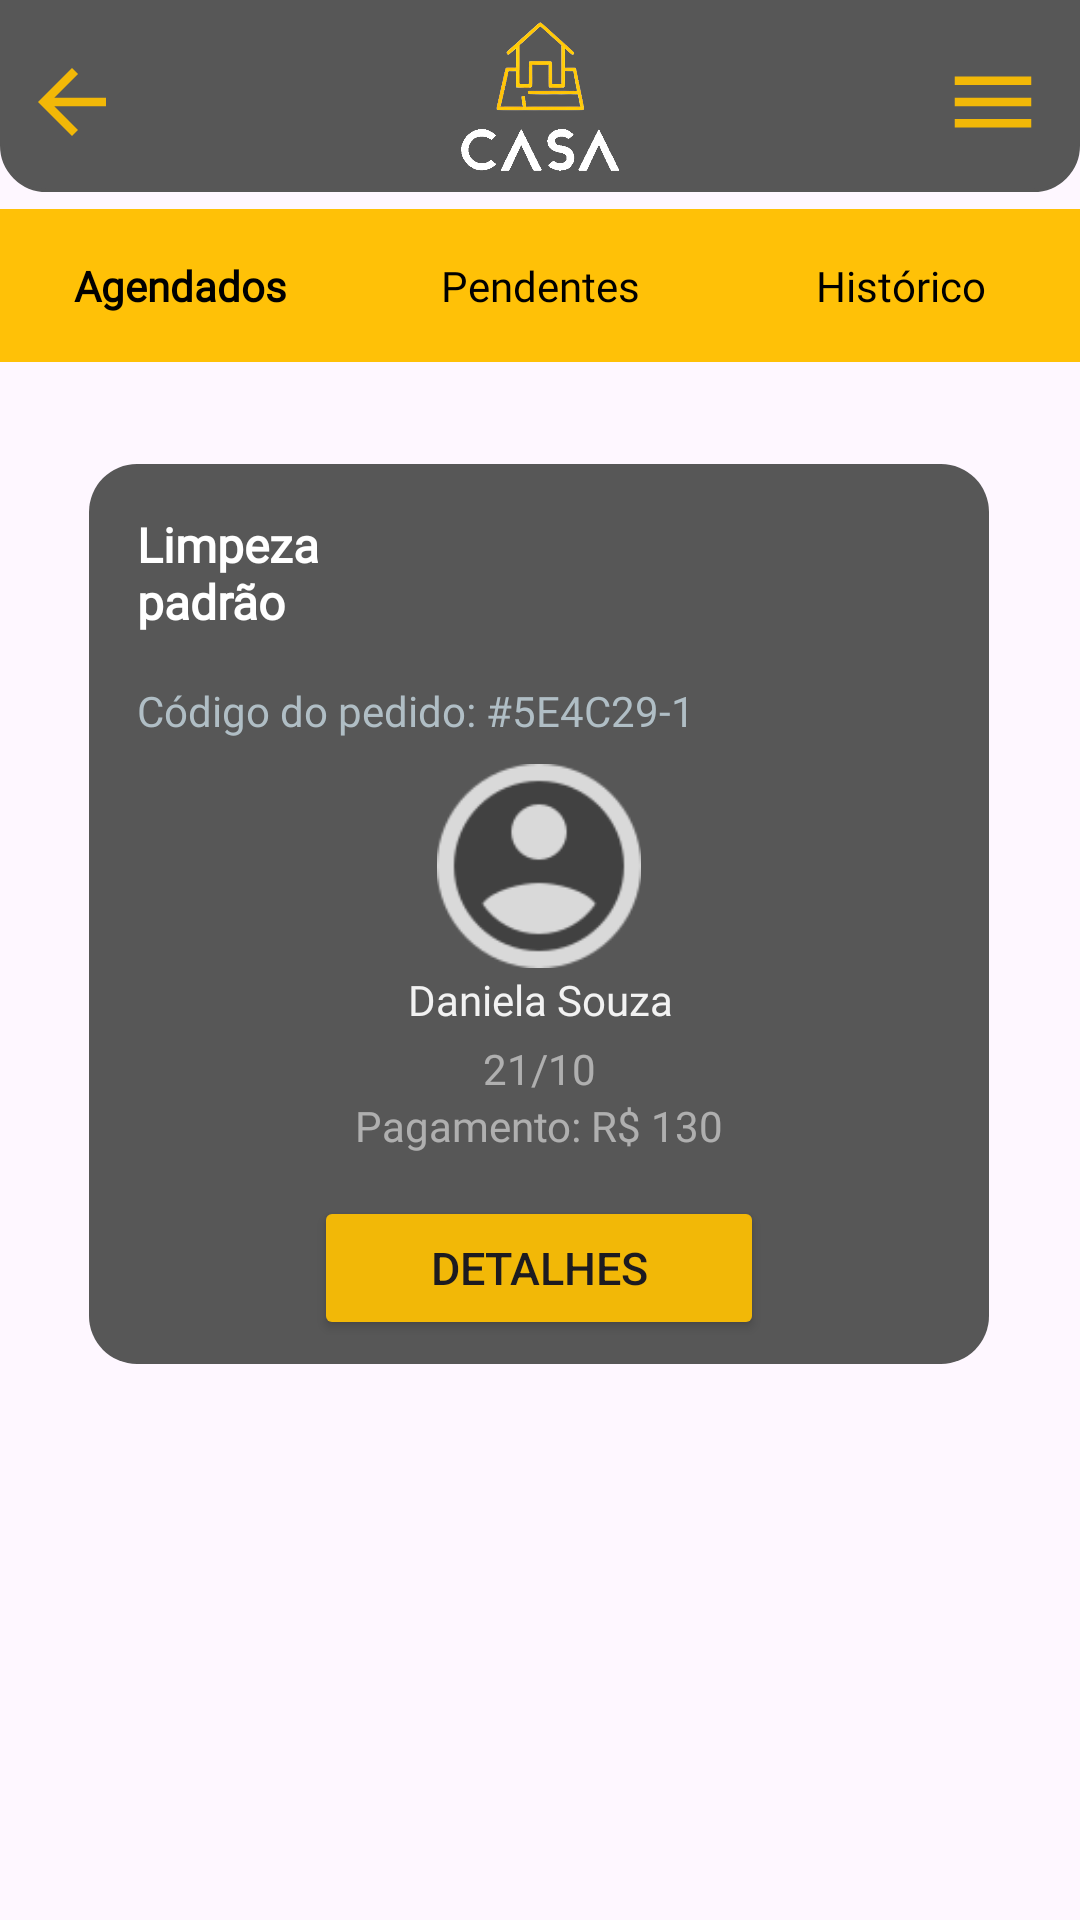

Where to tap for icons on this 1080px×1920px app screen, as point (x, y):
arrow back: point (72, 102)
fotodeperfil generica: point (539, 866)
menu: point (993, 102)
